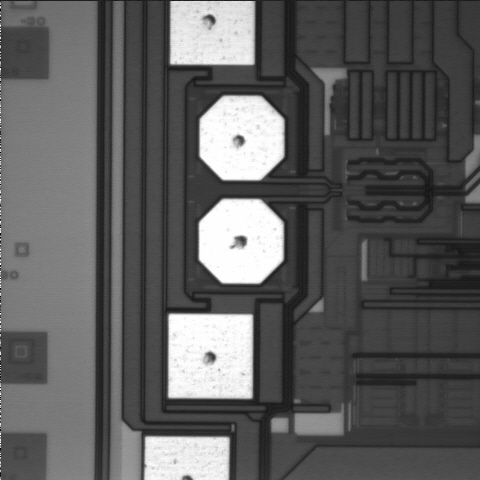pad: (199, 199, 284, 284), (168, 314, 253, 398), (200, 96, 284, 180)
